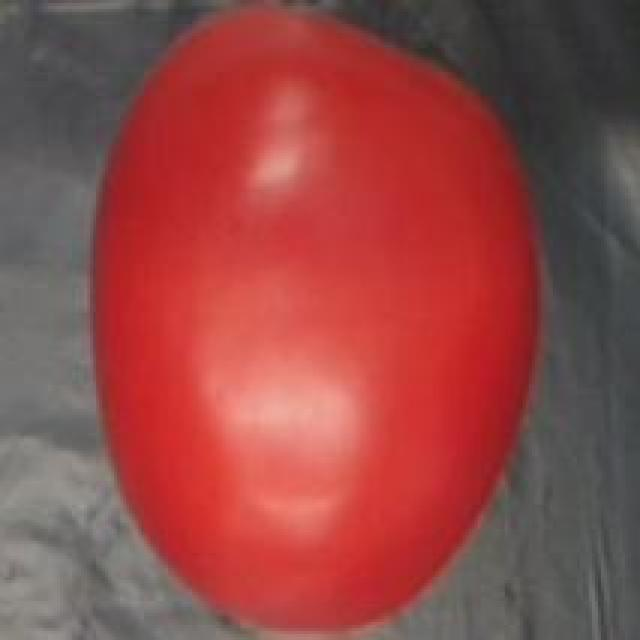ripe tomato: (78, 3, 553, 640)
